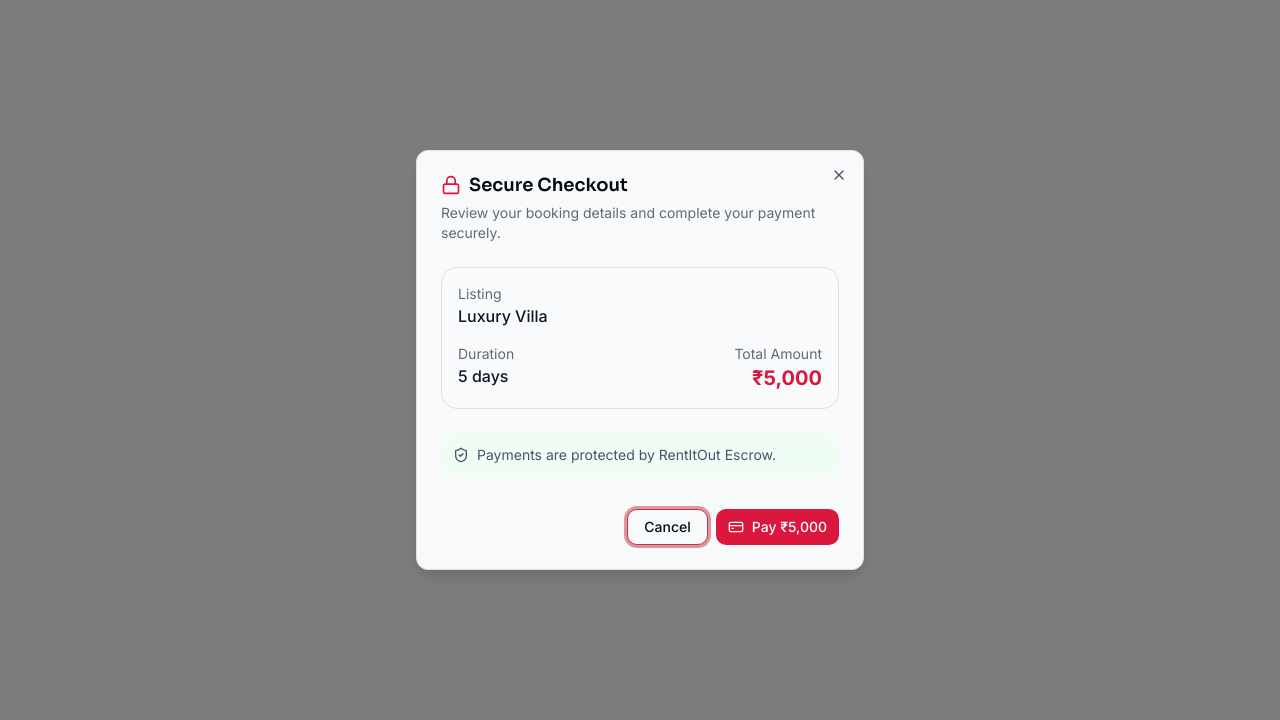
Phase 8 Payments Tests › handles successful payment flow
The image size is (1280, 720).
Click pay button
Click the button "Pay ₹5,000". click: {"x": 777, "y": 527}
box: [716,509,839,545]
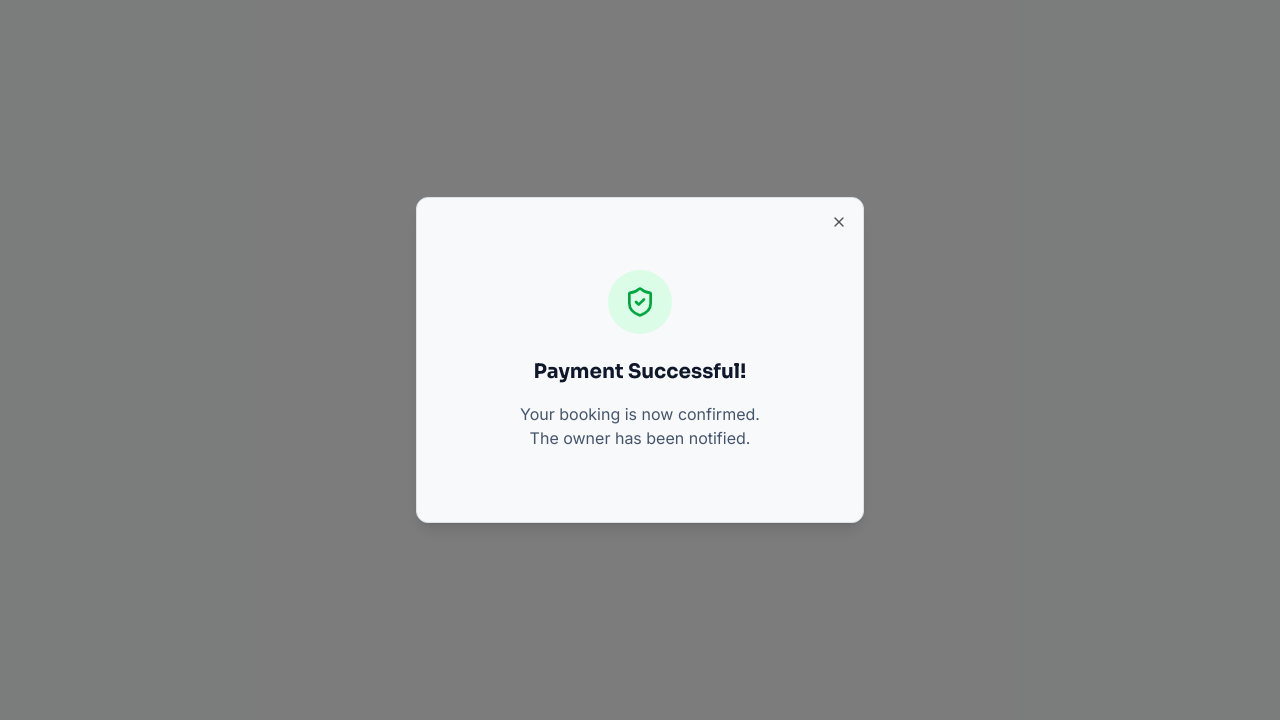
Expected: the heading "Payment Successful!" is shown, [534,358,746,386]
